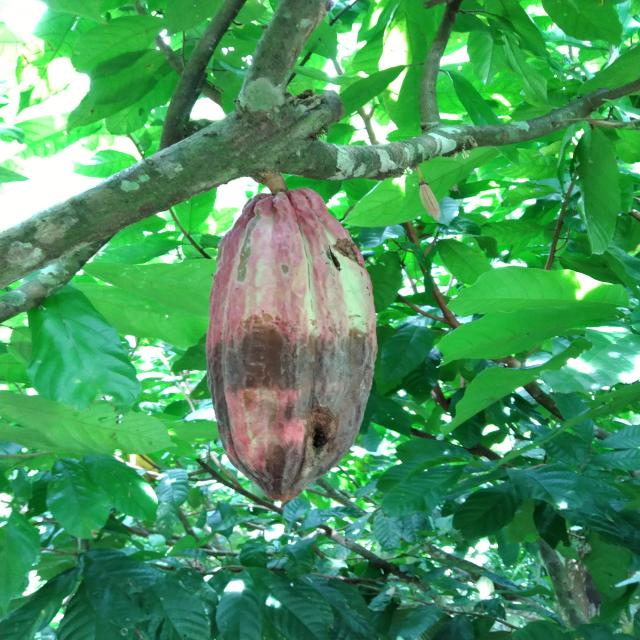Fitoftora: (209, 189, 377, 496)
Sana: (414, 178, 449, 222)
